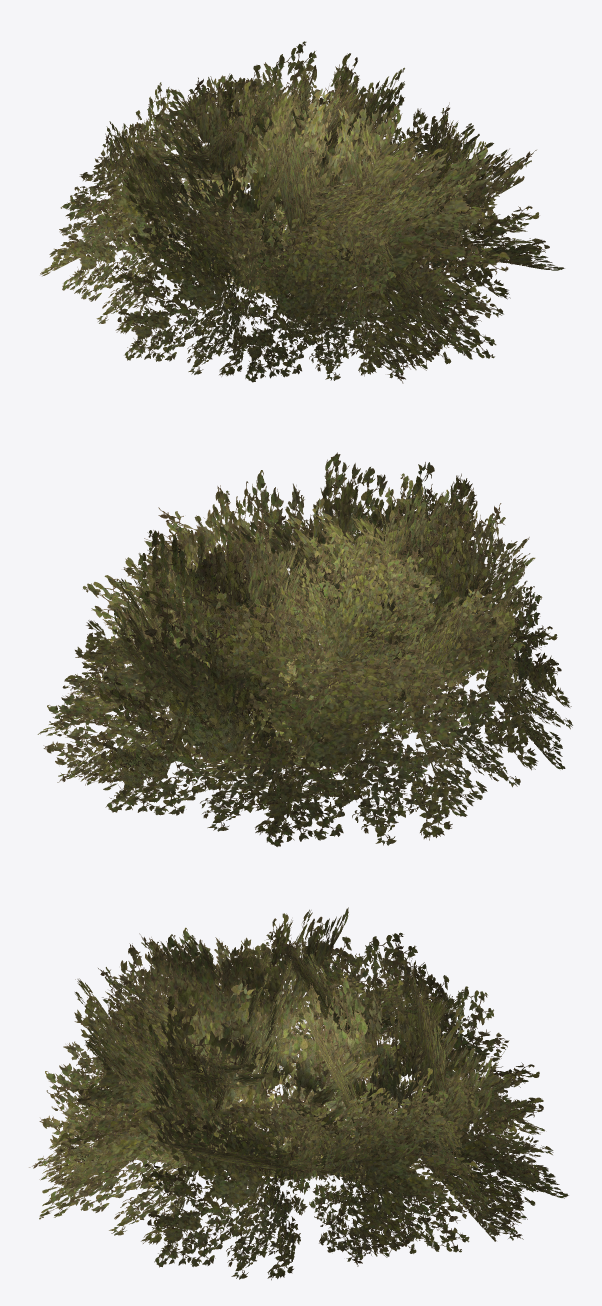
File: shrb_giantlickbush_ltgreen_a2_l0.fbx
3 renders of one model, top to bottom at view 1: azimuth 30°, elevation 25°; view 2: azimuth 150°, elevation 25°; view 3: azimuth 270°, elevation 25°, orthographic. The views are drawn at different scales.
Parts seen in each view (by area): view 1: mesh_node; view 2: mesh_node; view 3: mesh_node.
Boxes of the visible parts, box(x1,y1,x2,y2) form: mesh_node: box(40, 41, 564, 383); mesh_node: box(37, 452, 572, 846); mesh_node: box(29, 907, 568, 1280).
Bounding box in the file's own units: 4.14 × 2.15 × 4.26.
